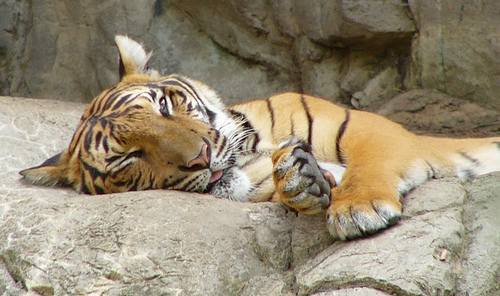Tigre: (46, 30, 487, 247)
